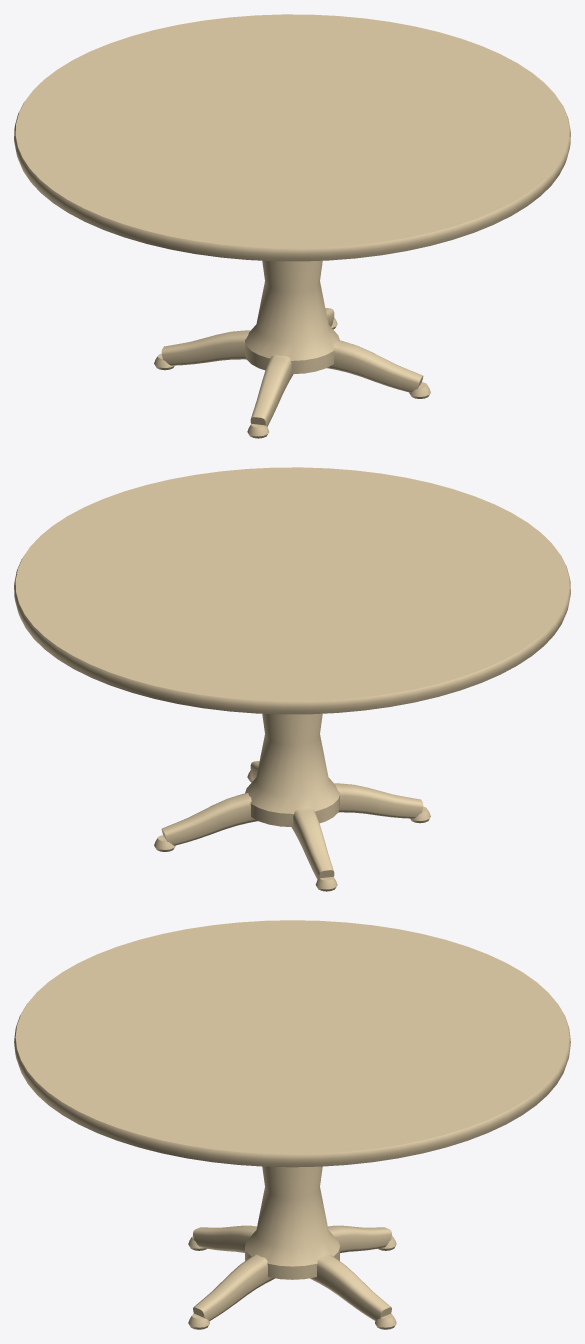
File: tableRound4.glb
3 renders of one model, top to bottom at view 1: azimuth 30°, elevation 25°; view 2: azimuth 150°, elevation 25°; view 3: azimuth 270°, elevation 25°, orthographic.
Visible parts, largest first — view 1: tableRound4; view 2: tableRound4; view 3: tableRound4.
Boxes of the visible parts, x1,y1,x2,y2 form: tableRound4: [14, 14, 570, 438]; tableRound4: [14, 467, 570, 891]; tableRound4: [14, 920, 570, 1329].
Bounding box in the file's own units: 1.52 × 0.75 × 1.52.
